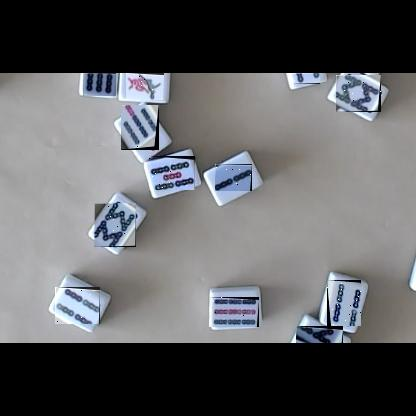1s: (126, 73, 164, 100)
2s: (215, 164, 252, 191)
4s: (55, 287, 100, 324), (327, 280, 361, 326), (289, 73, 320, 84)
5s: (149, 156, 195, 190)
6s: (83, 73, 116, 96)
7s: (121, 105, 159, 150)
8s: (94, 203, 136, 247), (336, 75, 381, 112), (296, 326, 343, 343)
9s: (209, 297, 259, 327)
